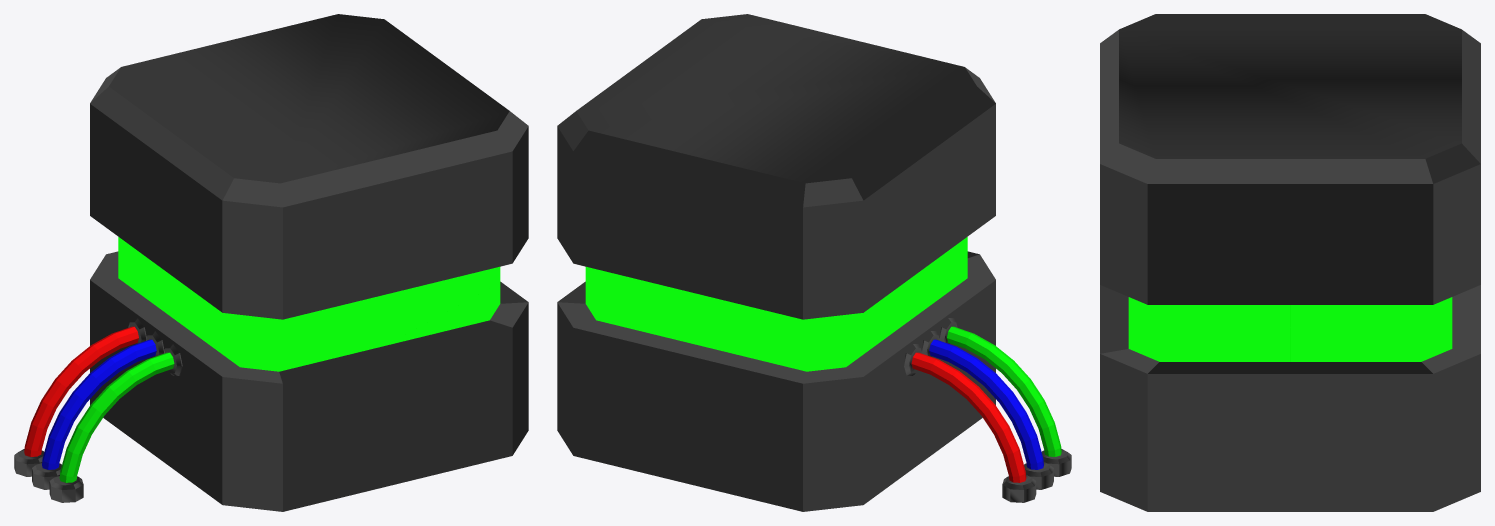
File: gerador.fbx
3 renders of one model, left to right at view 1: azimuth 30°, elevation 25°; view 2: azimuth 150°, elevation 25°; view 3: azimuth 270°, elevation 25°, orthographic. The views are drawn at different scales.
Visible parts, largest first — view 1: Cube, Cylinder_2, Cylinder, Cylinder_3, Cylinder_1_2; view 2: Cube, Cylinder, Cylinder_2, Cylinder_3, Cylinder_1_4; view 3: Cube.
Boxes of the visible parts, left/top/right/bottom form: Cube: left=90, top=14, right=528, bottom=511; Cylinder_2: left=24, top=326, right=138, bottom=456; Cylinder: left=59, top=352, right=174, bottom=482; Cylinder_3: left=42, top=339, right=156, bottom=469; Cylinder_1_2: left=49, top=474, right=83, bottom=502; Cube: left=557, top=14, right=995, bottom=511; Cylinder: left=947, top=326, right=1061, bottom=456; Cylinder_2: left=911, top=352, right=1026, bottom=482; Cylinder_3: left=929, top=339, right=1043, bottom=469; Cylinder_1_4: left=1002, top=474, right=1036, bottom=502; Cube: left=1100, top=14, right=1480, bottom=511.
Bounding box in the file's own units: 280 × 200 × 200.
